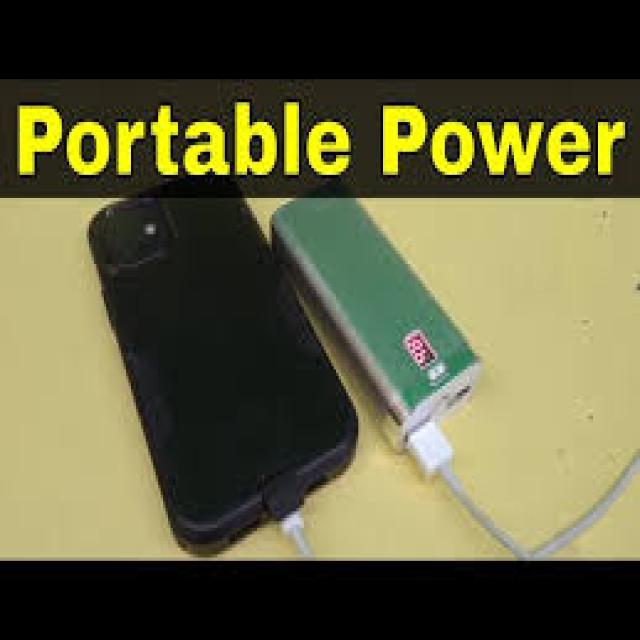portable-charger: (272, 191, 478, 450)
